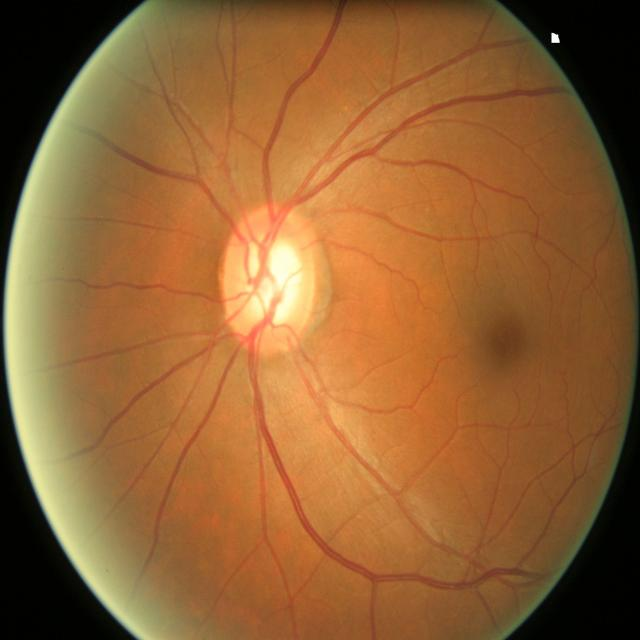OC: (244, 243, 301, 324)
OD: (224, 210, 315, 350)
